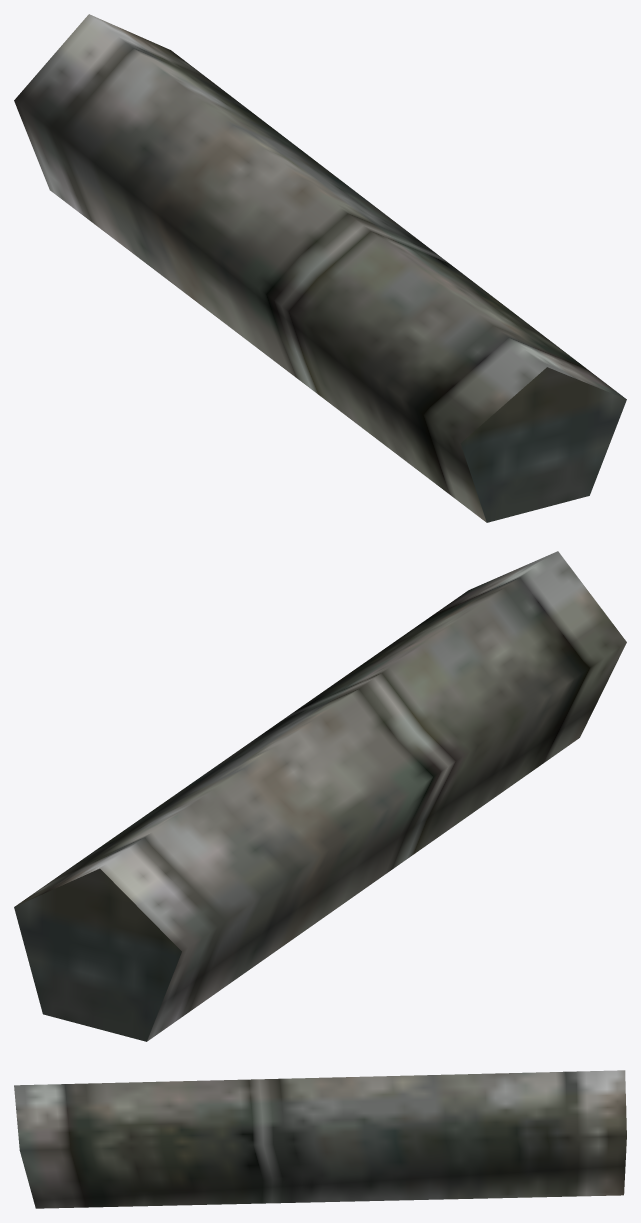
Rendered from dsdebris_tubesmall_l0.fbx.
3 views of the same model, one above another, from view 1: azimuth 30°, elevation 25°; view 2: azimuth 150°, elevation 25°; view 3: azimuth 270°, elevation 25° (orthographic). The views are drawn at different scales.
Parts seen in each view (by area): view 1: mesh_node; view 2: mesh_node; view 3: mesh_node.
Boxes of the visible parts, bbox=[...] form: mesh_node: bbox=[14, 14, 626, 522]; mesh_node: bbox=[14, 551, 626, 1041]; mesh_node: bbox=[14, 1070, 626, 1208].
Size of the model in its own units: 0.2326 by 0.2432 by 1.11.
